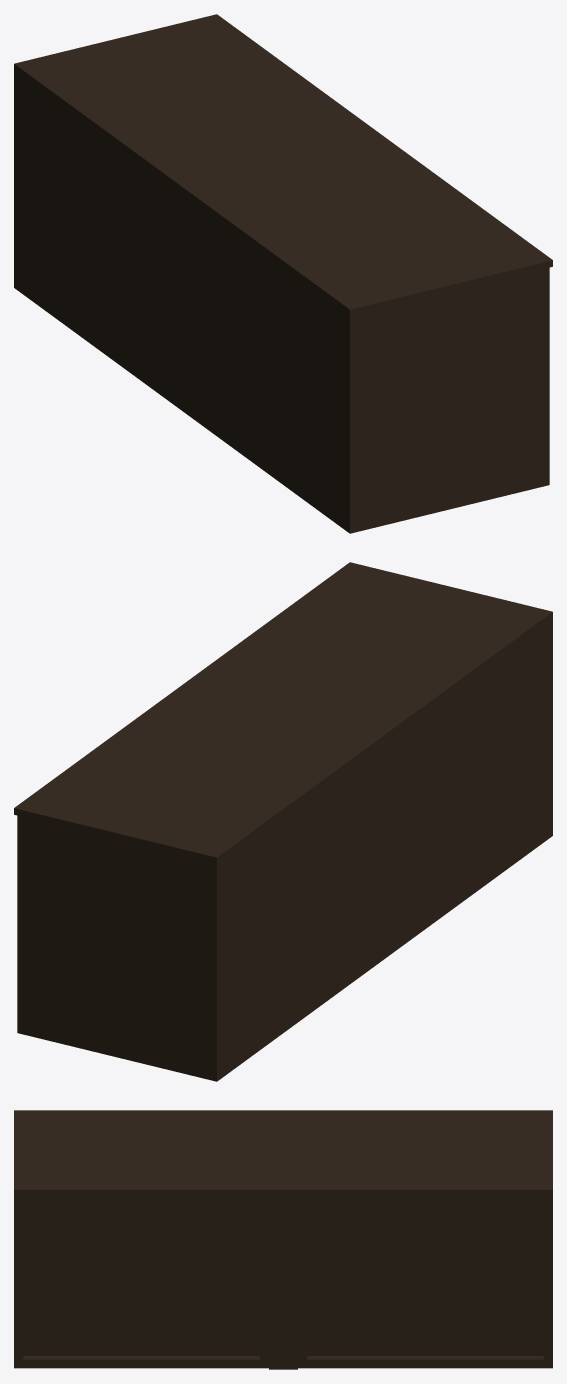
The model's file is Counter_1.fbx.
The picture shows the model from 3 angles, top to bottom: view 1: azimuth 30°, elevation 25°; view 2: azimuth 150°, elevation 25°; view 3: azimuth 270°, elevation 25°; orthographic projection. The views are drawn at different scales.
Parts seen in each view (by area): view 1: Cube.119; view 2: Cube.119; view 3: Cube.119.
Part boxes in pixels (bbox=[...]): Cube.119: bbox=[14, 14, 552, 533]; Cube.119: bbox=[14, 562, 552, 1081]; Cube.119: bbox=[14, 1110, 552, 1369].
Size of the model in its own units: 97.67 by 103 by 280.
